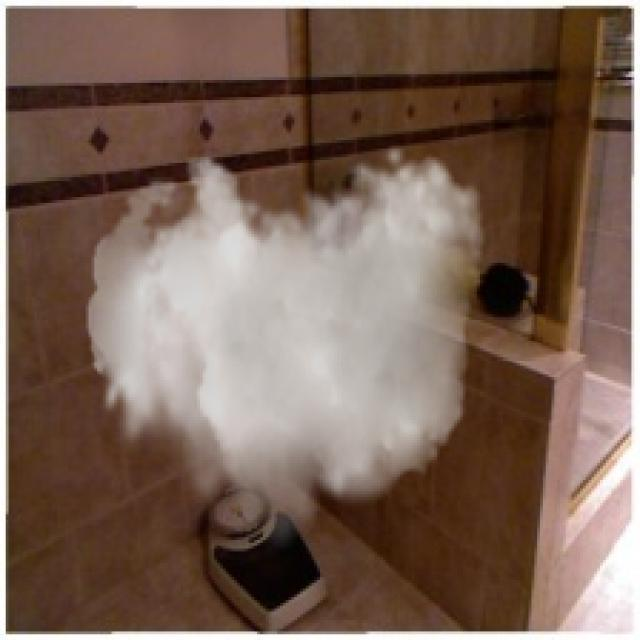Smoke: (86, 142, 486, 558)
